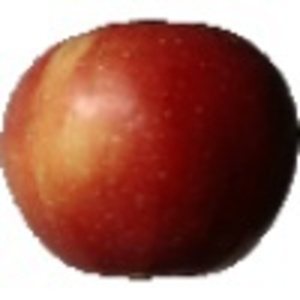maçã braeburn: (1, 18, 299, 281)
